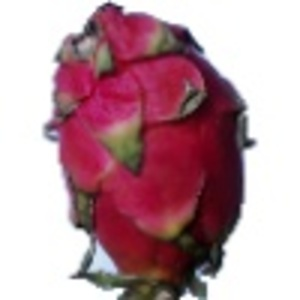pitaia: (43, 1, 257, 300)
